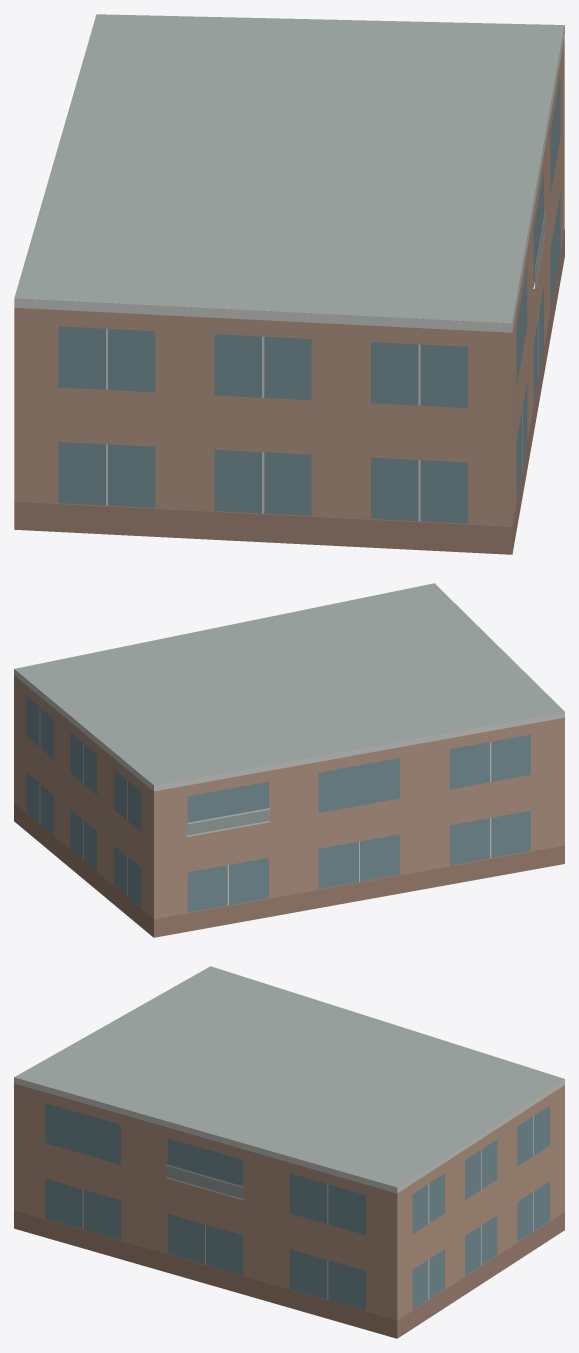
The model's file is survey-upis-32931341.glb.
The picture shows the model from 3 angles, top to bottom: view 1: azimuth 30°, elevation 25°; view 2: azimuth 150°, elevation 25°; view 3: azimuth 270°, elevation 25°; orthographic projection. The views are drawn at different scales.
Parts seen in each view (by area): view 1: survey-upis-32931341.tmp; view 2: survey-upis-32931341.tmp; view 3: survey-upis-32931341.tmp.
Boxes of the visible parts, x1,y1,x2,y2 form: survey-upis-32931341.tmp: (14,14,564,554); survey-upis-32931341.tmp: (14,583,564,937); survey-upis-32931341.tmp: (14,966,564,1338).
Size of the model in its own units: 19.15 by 6.1 by 20.14.
